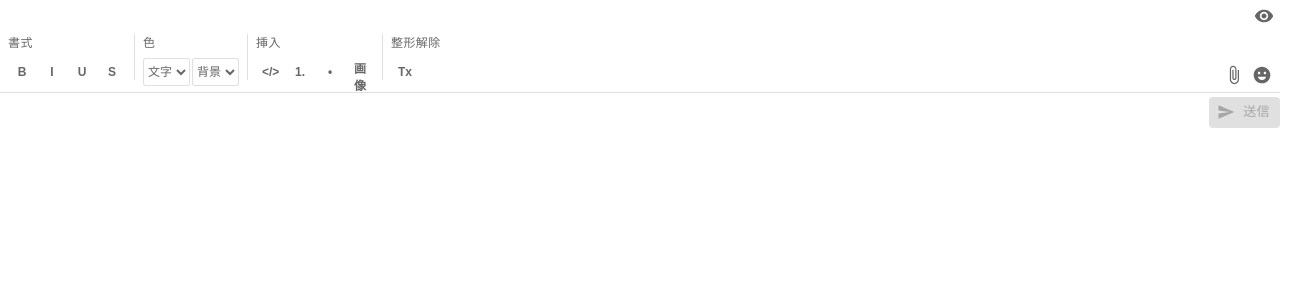
RichEditor › 絵文字ピッカー › 絵文字ボタンをクリックするとピッカーが表示される
Click the button named "絵文字を挿入": (1262, 75) [1250, 63, 1274, 87]
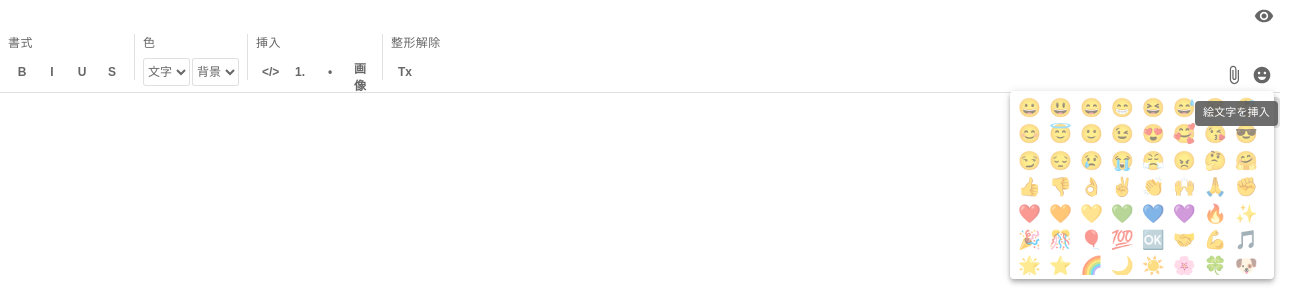
Check: the button "😀" is shown, box [1014, 95, 1045, 121]
